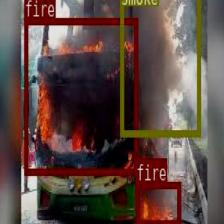fire: (24, 17, 137, 174), (135, 180, 180, 224)
smoke: (120, 0, 200, 134)
